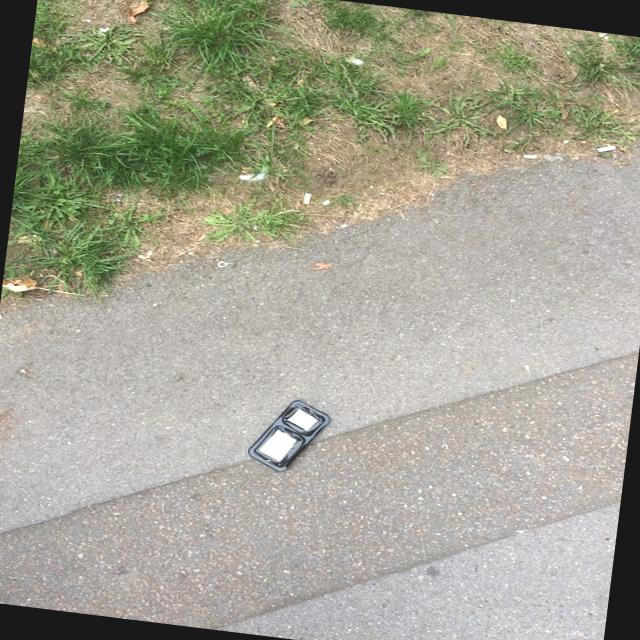Trash: (252, 395, 342, 481)
